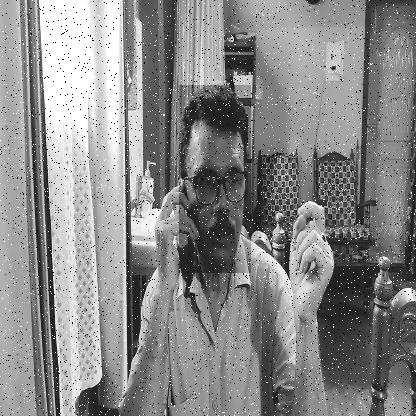Normal: (179, 85, 251, 273)
